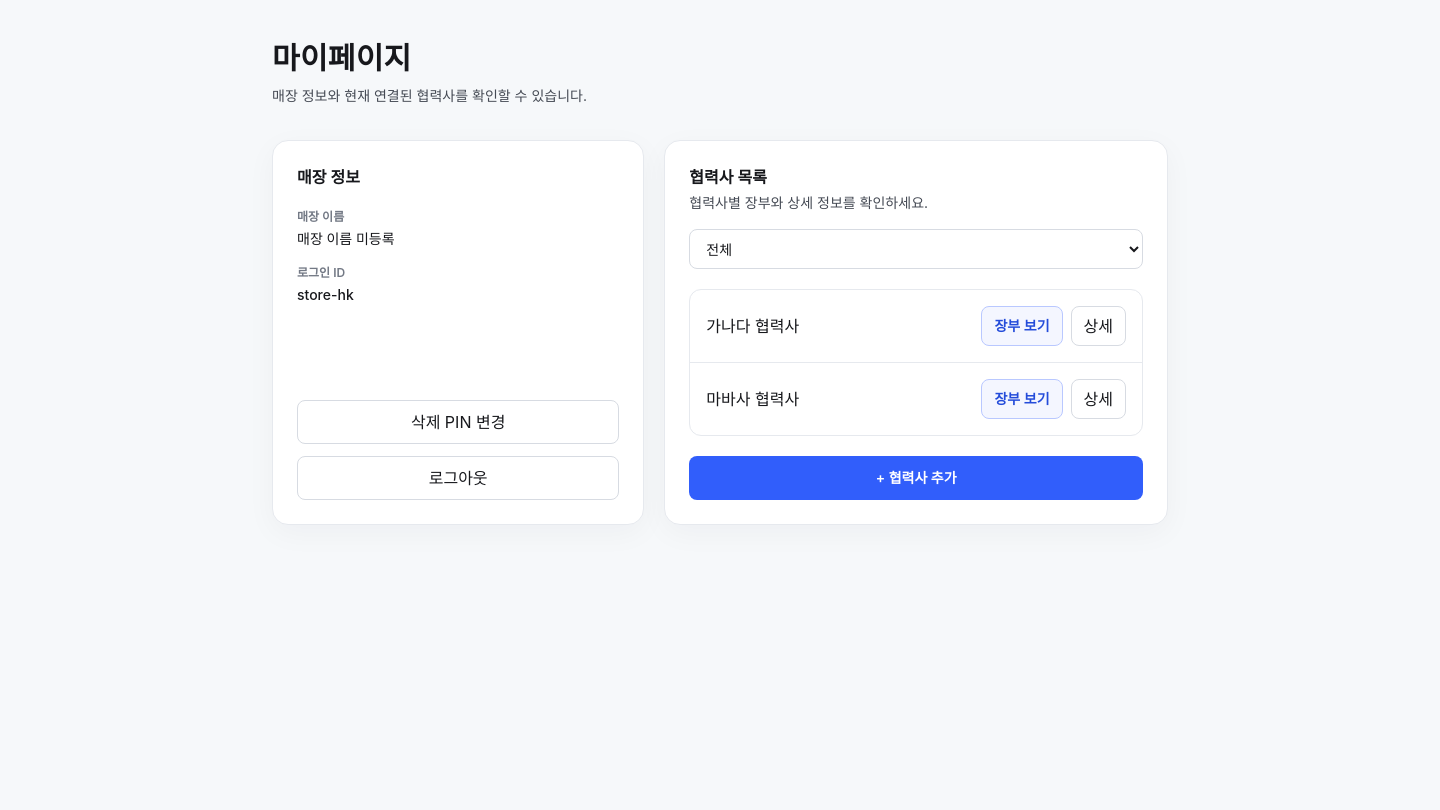
StoreProfileView › keeps the PIN snapshot across password reauthentication and retries archive once
expect the button "가나다 협력사" is shown: met, box [706, 314, 799, 338]
Click the 1st button "상세".
click(1098, 326)  # box [1070, 306, 1126, 346]
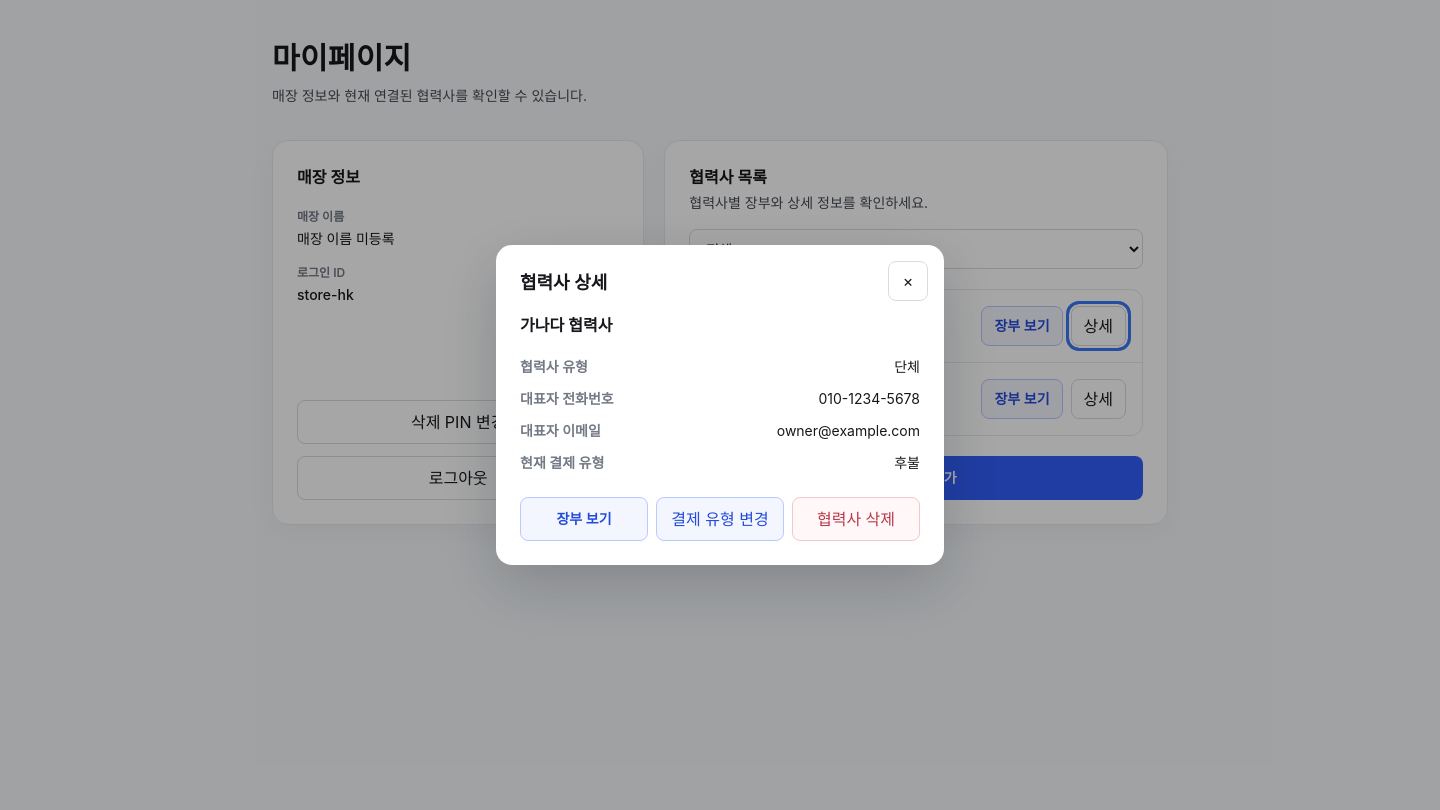
Click the button "협력사 삭제".
click(856, 519)  # box [792, 497, 920, 541]
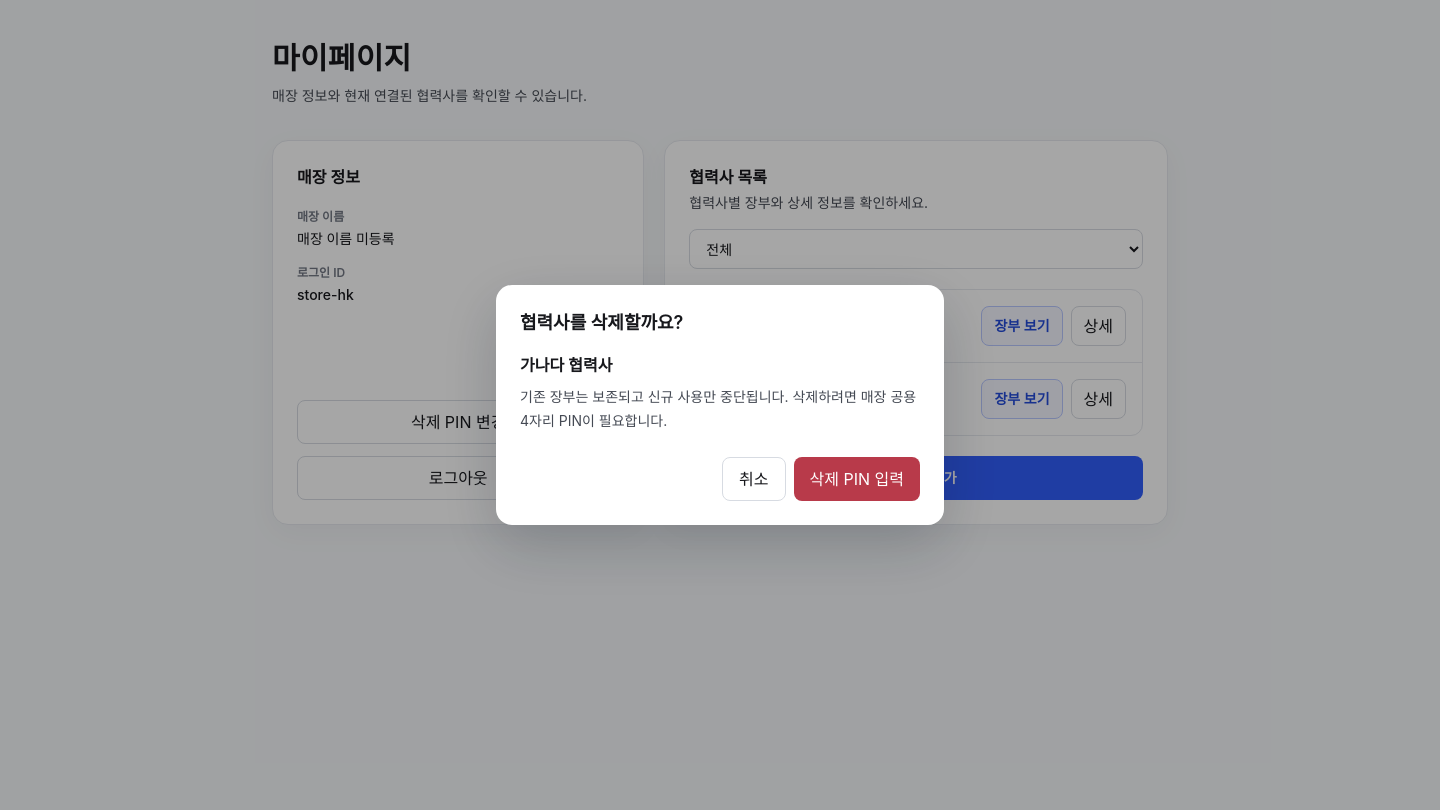
Click the button "삭제 PIN 입력".
click(857, 479)  # box [794, 457, 920, 501]
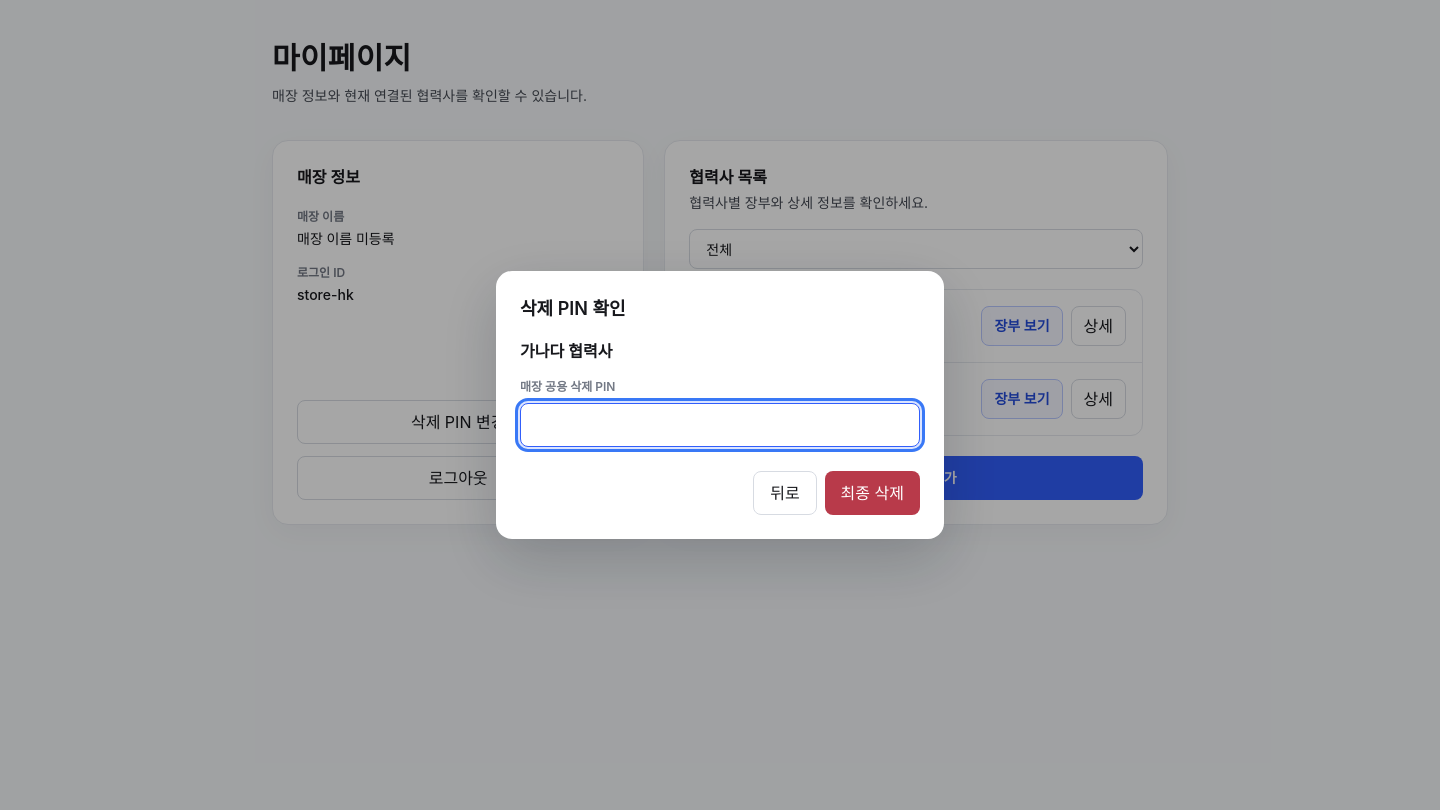
Type "1234" into the password field labelled "매장 공용 삭제 PIN".
click(720, 425); type("1234")  # box [520, 403, 920, 447]
Click the button "최종 삭제".
click(872, 493)  # box [825, 471, 920, 515]
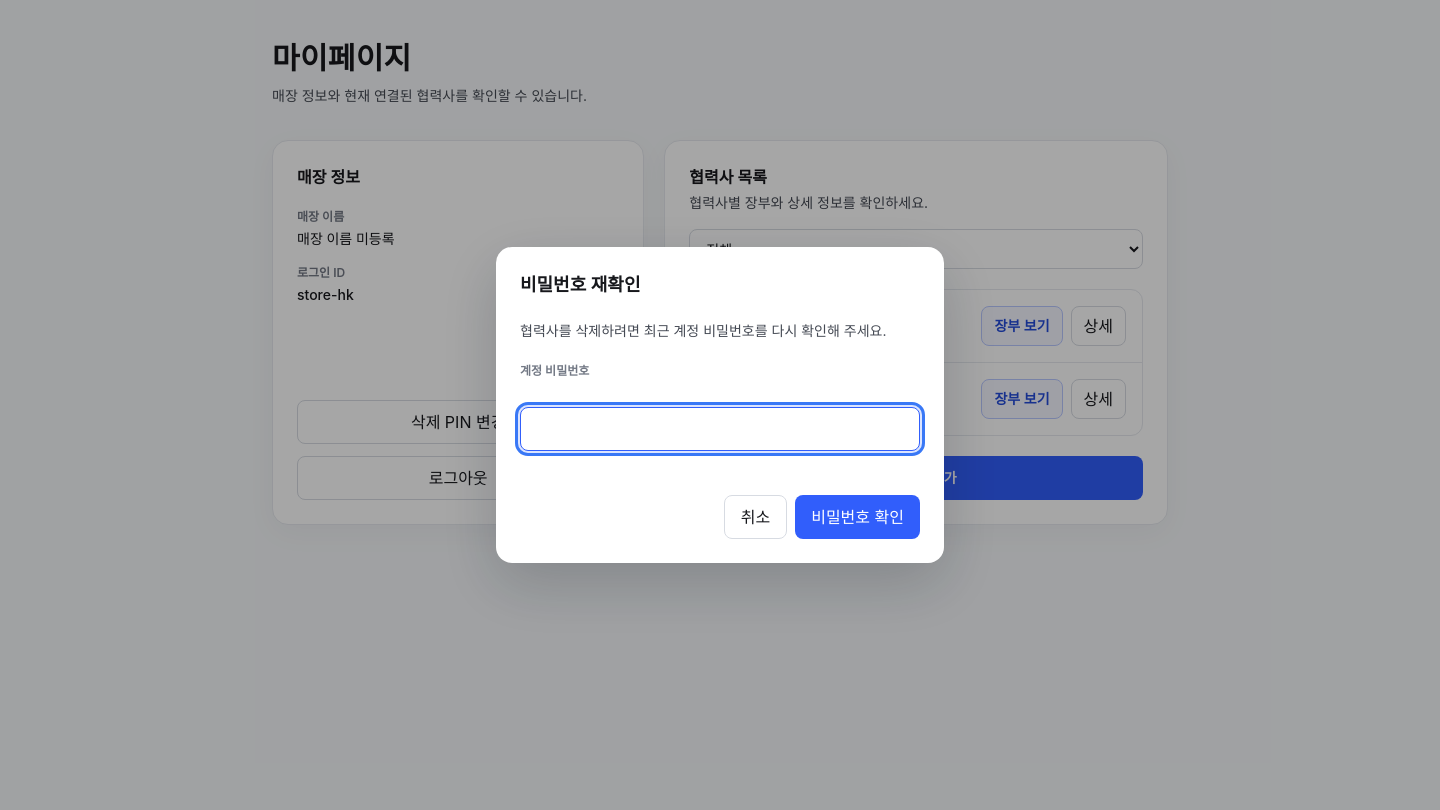
expect the dialog "비밀번호 재확인" is shown: met
Type "correct-password" into the password field labelled "계정 비밀번호".
click(720, 429); type("correct-password")  # box [520, 407, 920, 451]
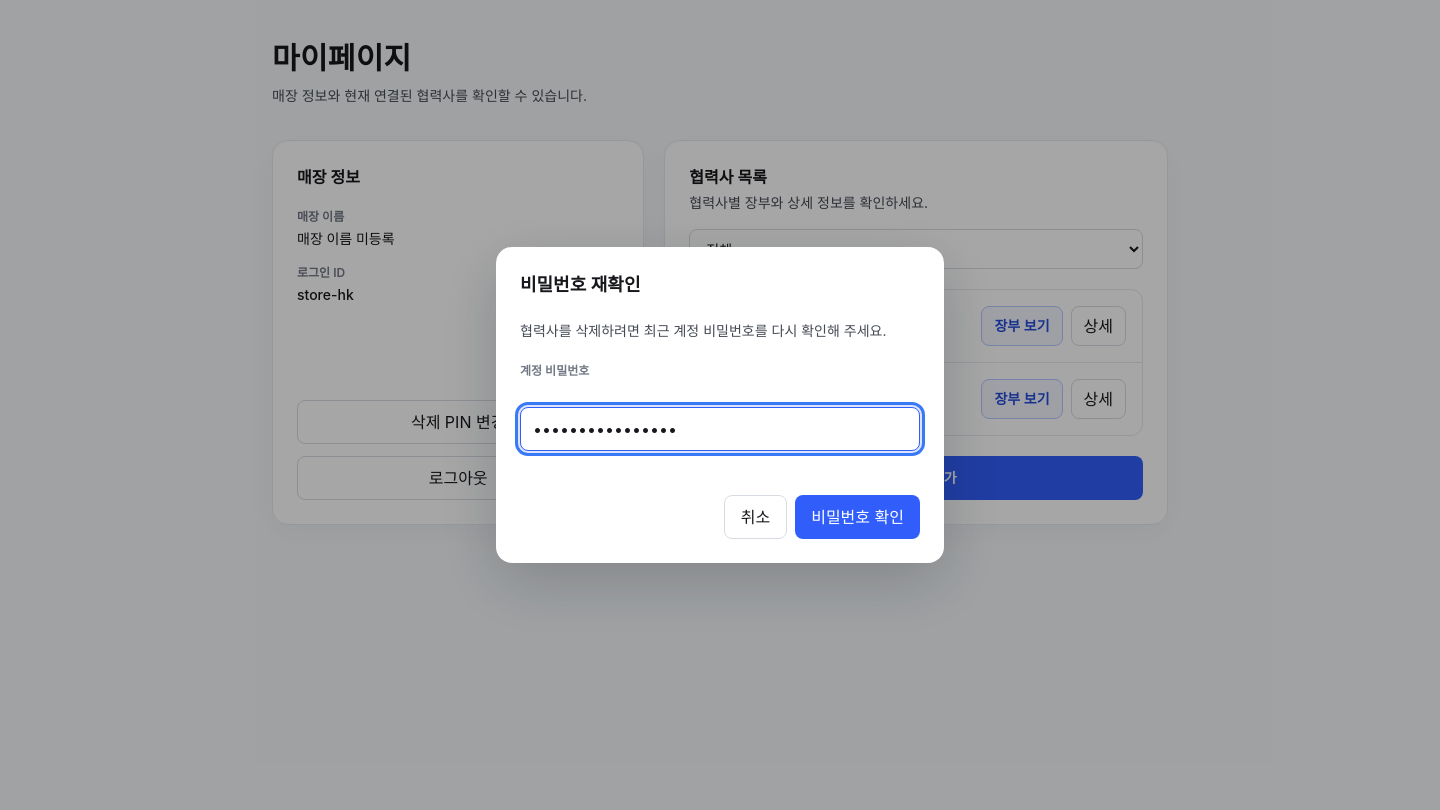
Press Enter
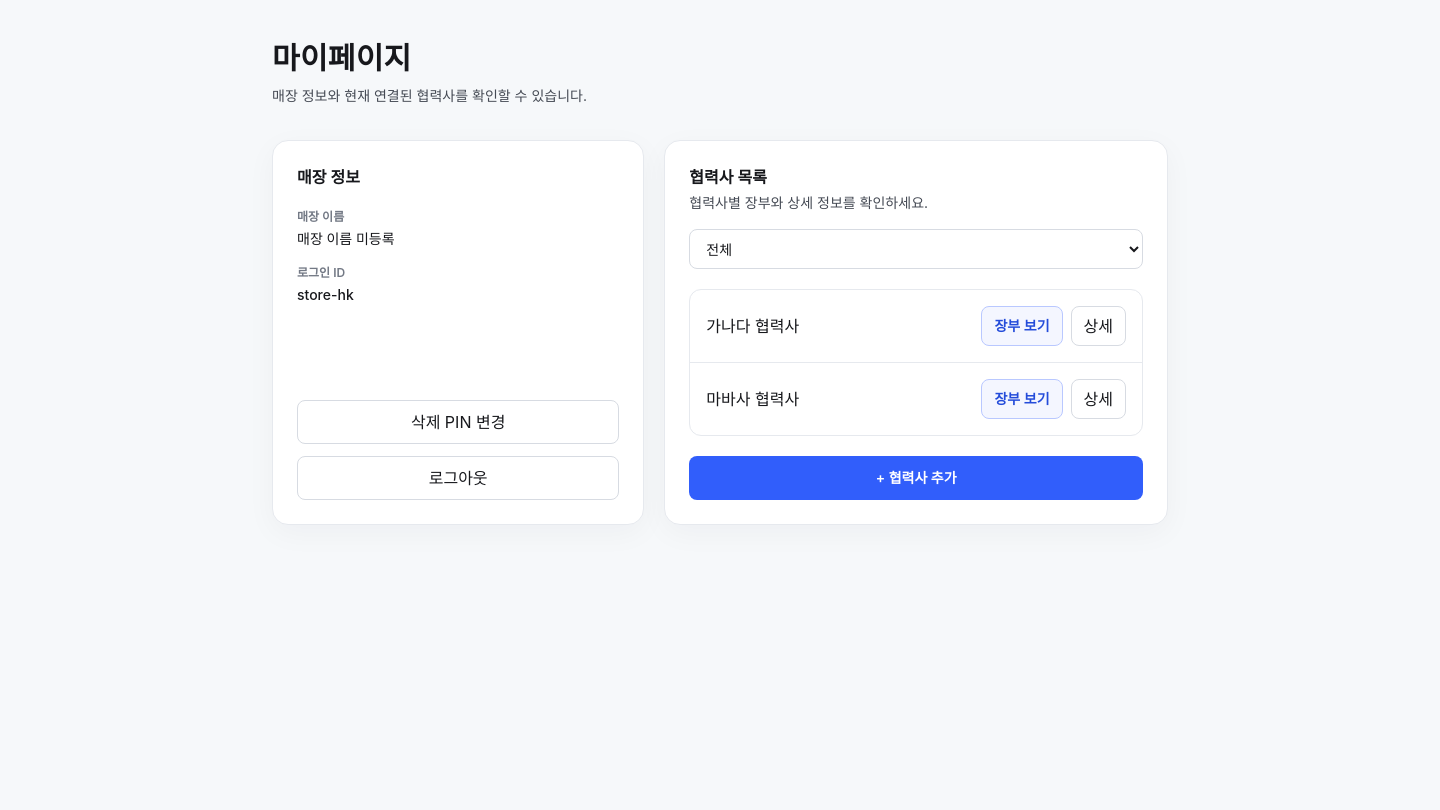
expect the dialog is gone: met
